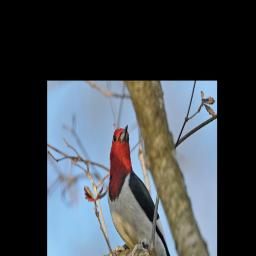Woodpecker: (104, 116, 182, 256)
